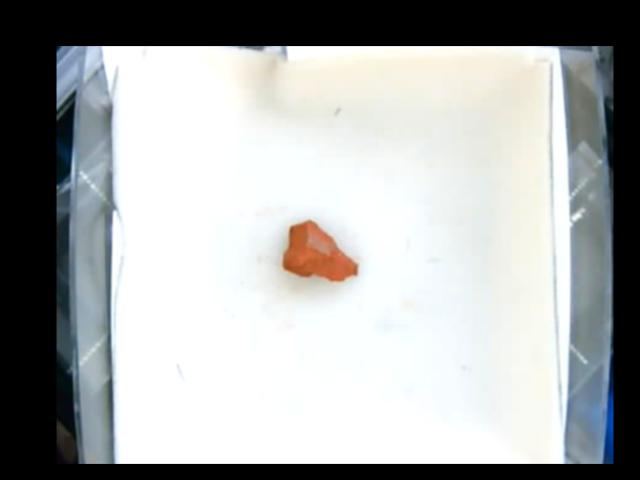Brisk: (281, 220, 360, 281)
